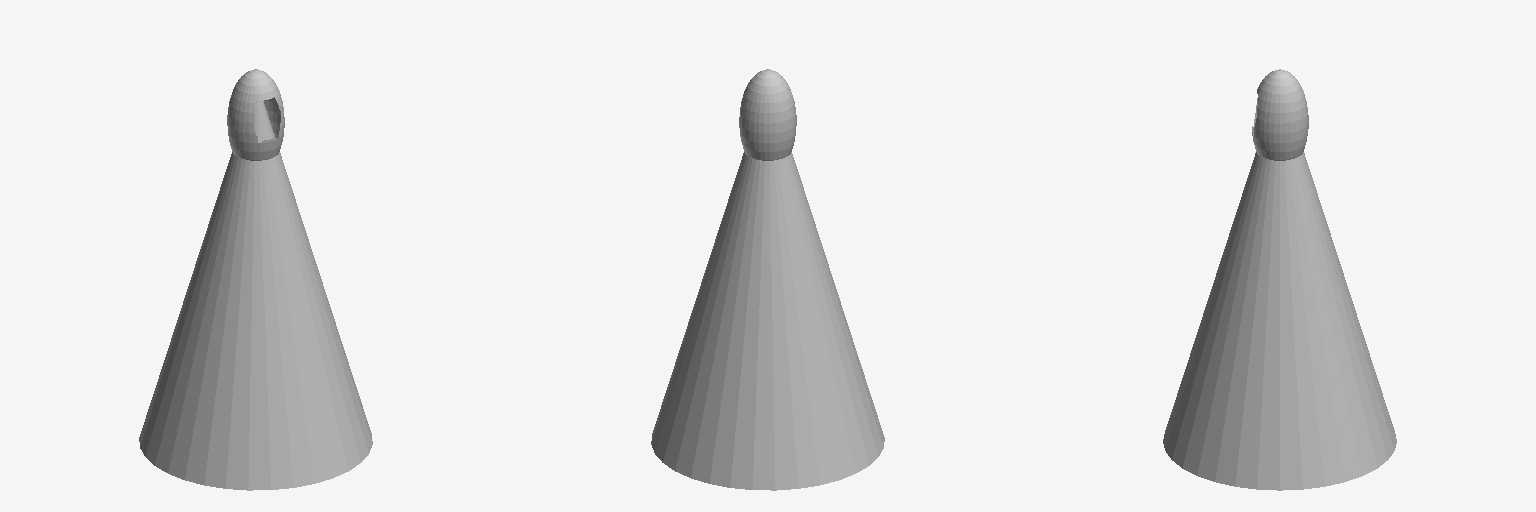
The model's file is cloth.obj.
3 views of the same model, side by side, from view 1: azimuth 30°, elevation 25°; view 2: azimuth 150°, elevation 25°; view 3: azimuth 270°, elevation 25° (orthographic).
Parts seen in each view (by area): view 1: Cone; view 2: Cone; view 3: Cone.
Part boxes in pixels (x1,y1,x2,y2): Cone: (139, 69, 372, 490); Cone: (651, 69, 884, 490); Cone: (1163, 69, 1396, 490).
Size of the model in its own units: 2 by 3.49 by 2.